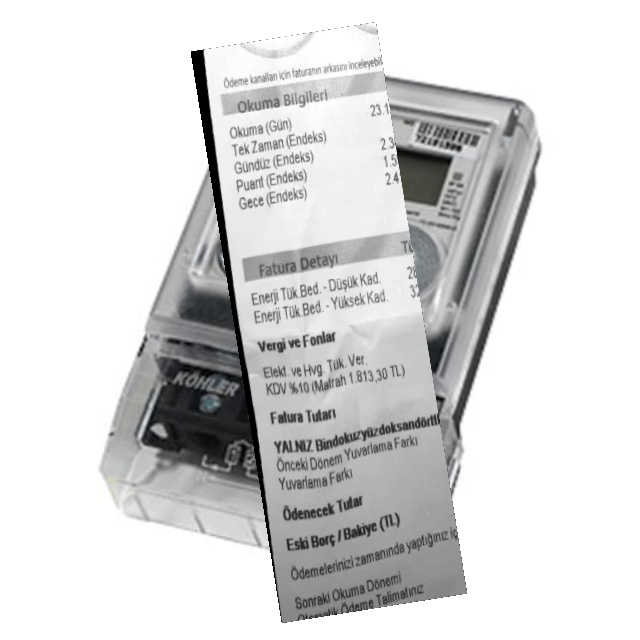electricity-bill: (190, 21, 466, 623)
